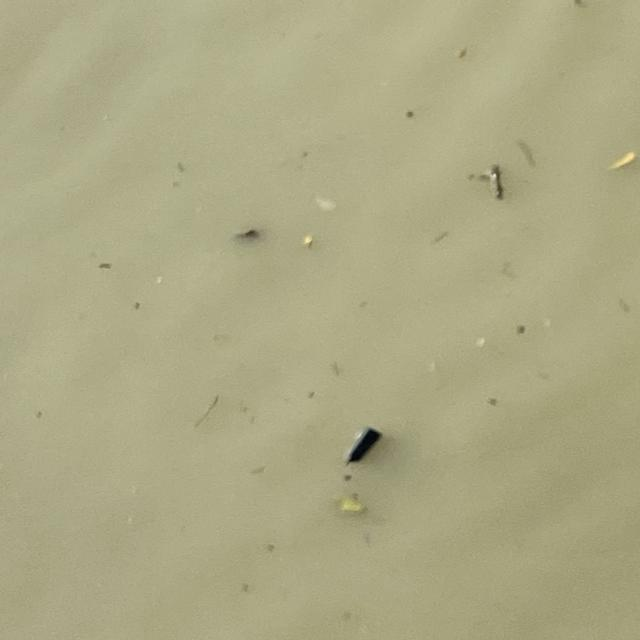Electronic Waste: (338, 419, 389, 474), (474, 160, 508, 207)
Organic Debris: (186, 394, 229, 430), (330, 490, 374, 519), (605, 149, 640, 177), (512, 133, 537, 171), (430, 228, 454, 247), (328, 360, 346, 383), (233, 229, 264, 242), (246, 464, 271, 478), (336, 470, 359, 484), (300, 233, 318, 249), (511, 322, 530, 336), (235, 582, 257, 594), (454, 47, 469, 64), (570, 0, 592, 11), (484, 394, 501, 408), (93, 260, 115, 270), (304, 388, 319, 402), (30, 408, 46, 421), (265, 540, 278, 556), (174, 160, 187, 173), (403, 110, 418, 121), (129, 300, 143, 311)
Plastic: (311, 196, 340, 212)
